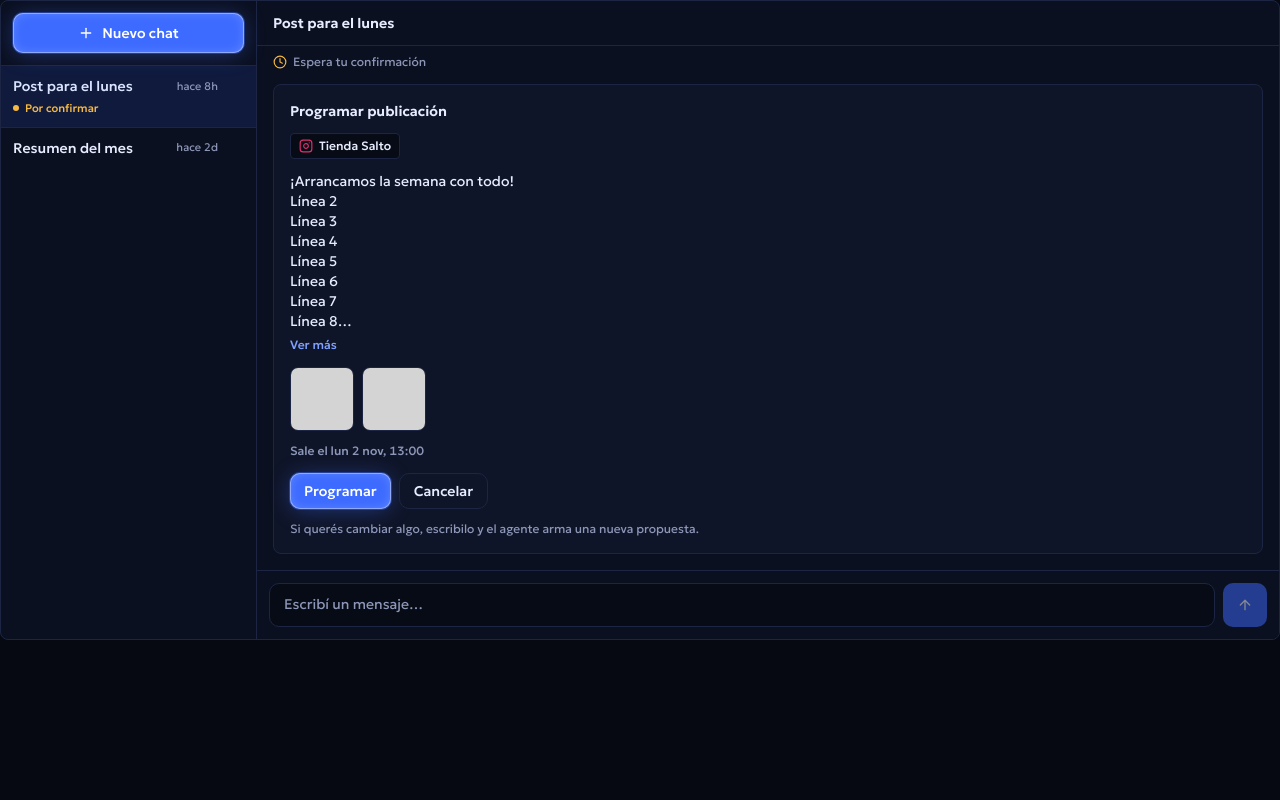
it: Agente — tarjeta de confirmación (confirmar y cancelar) › al cancelar pega a /actions/{id}/reject y muestra el chat sin la acción pendiente
(page scrolled)
Click the button "Cancelar". click: (443, 490)
box: [399, 472, 488, 508]
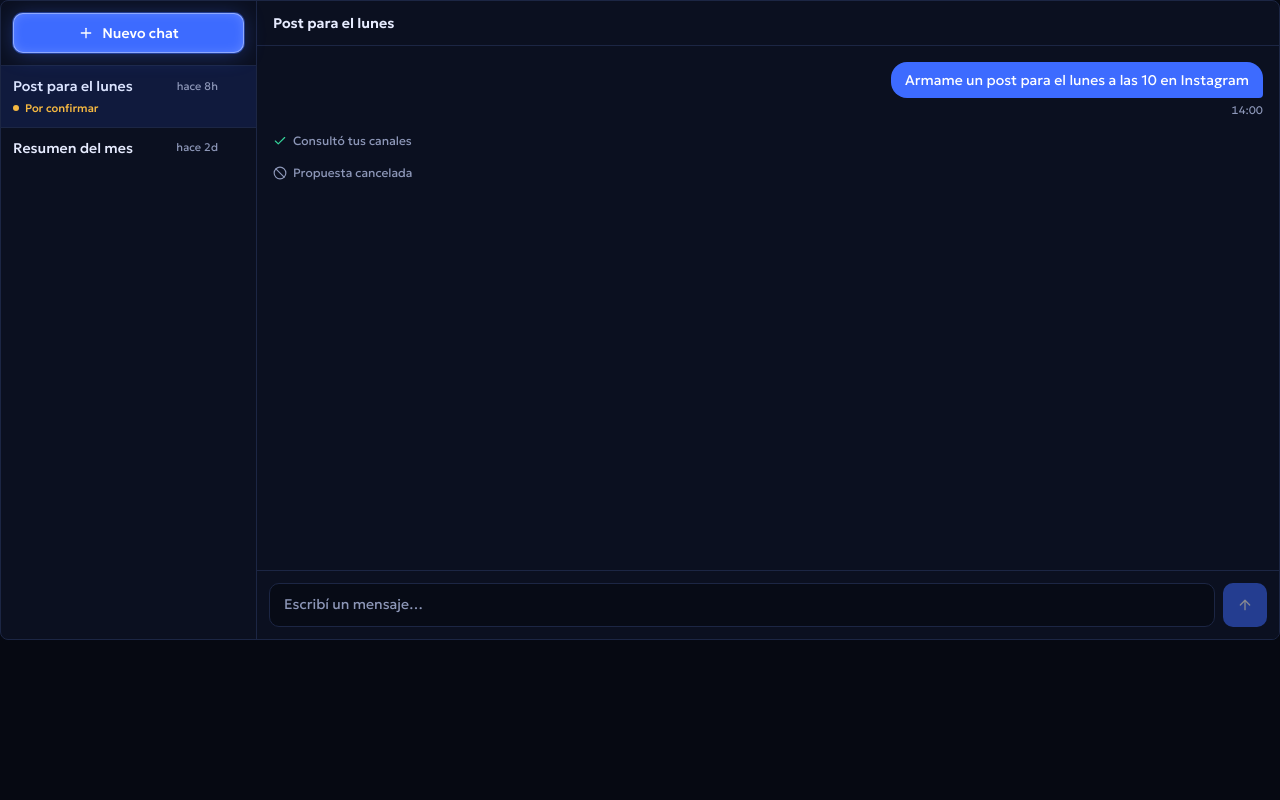
Expected: the text "Propuesta cancelada" is shown, [293, 164, 412, 180]
Expected: the element with test id "agent-pending-action-card" is gone
